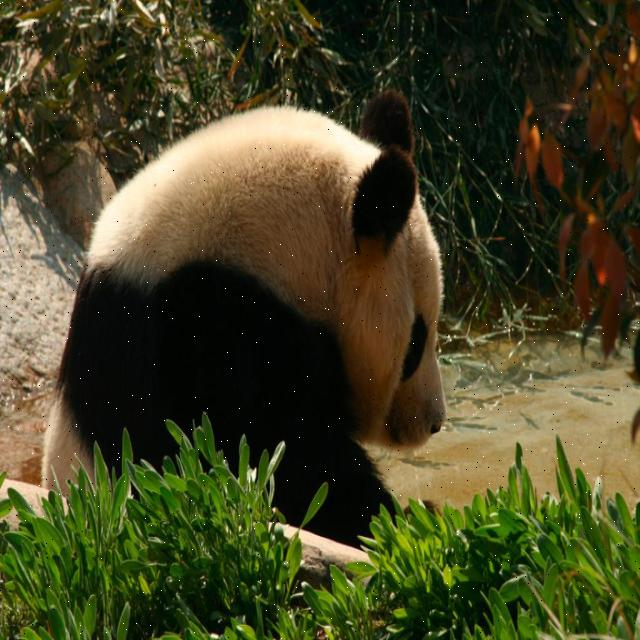panda: (44, 83, 449, 554)
